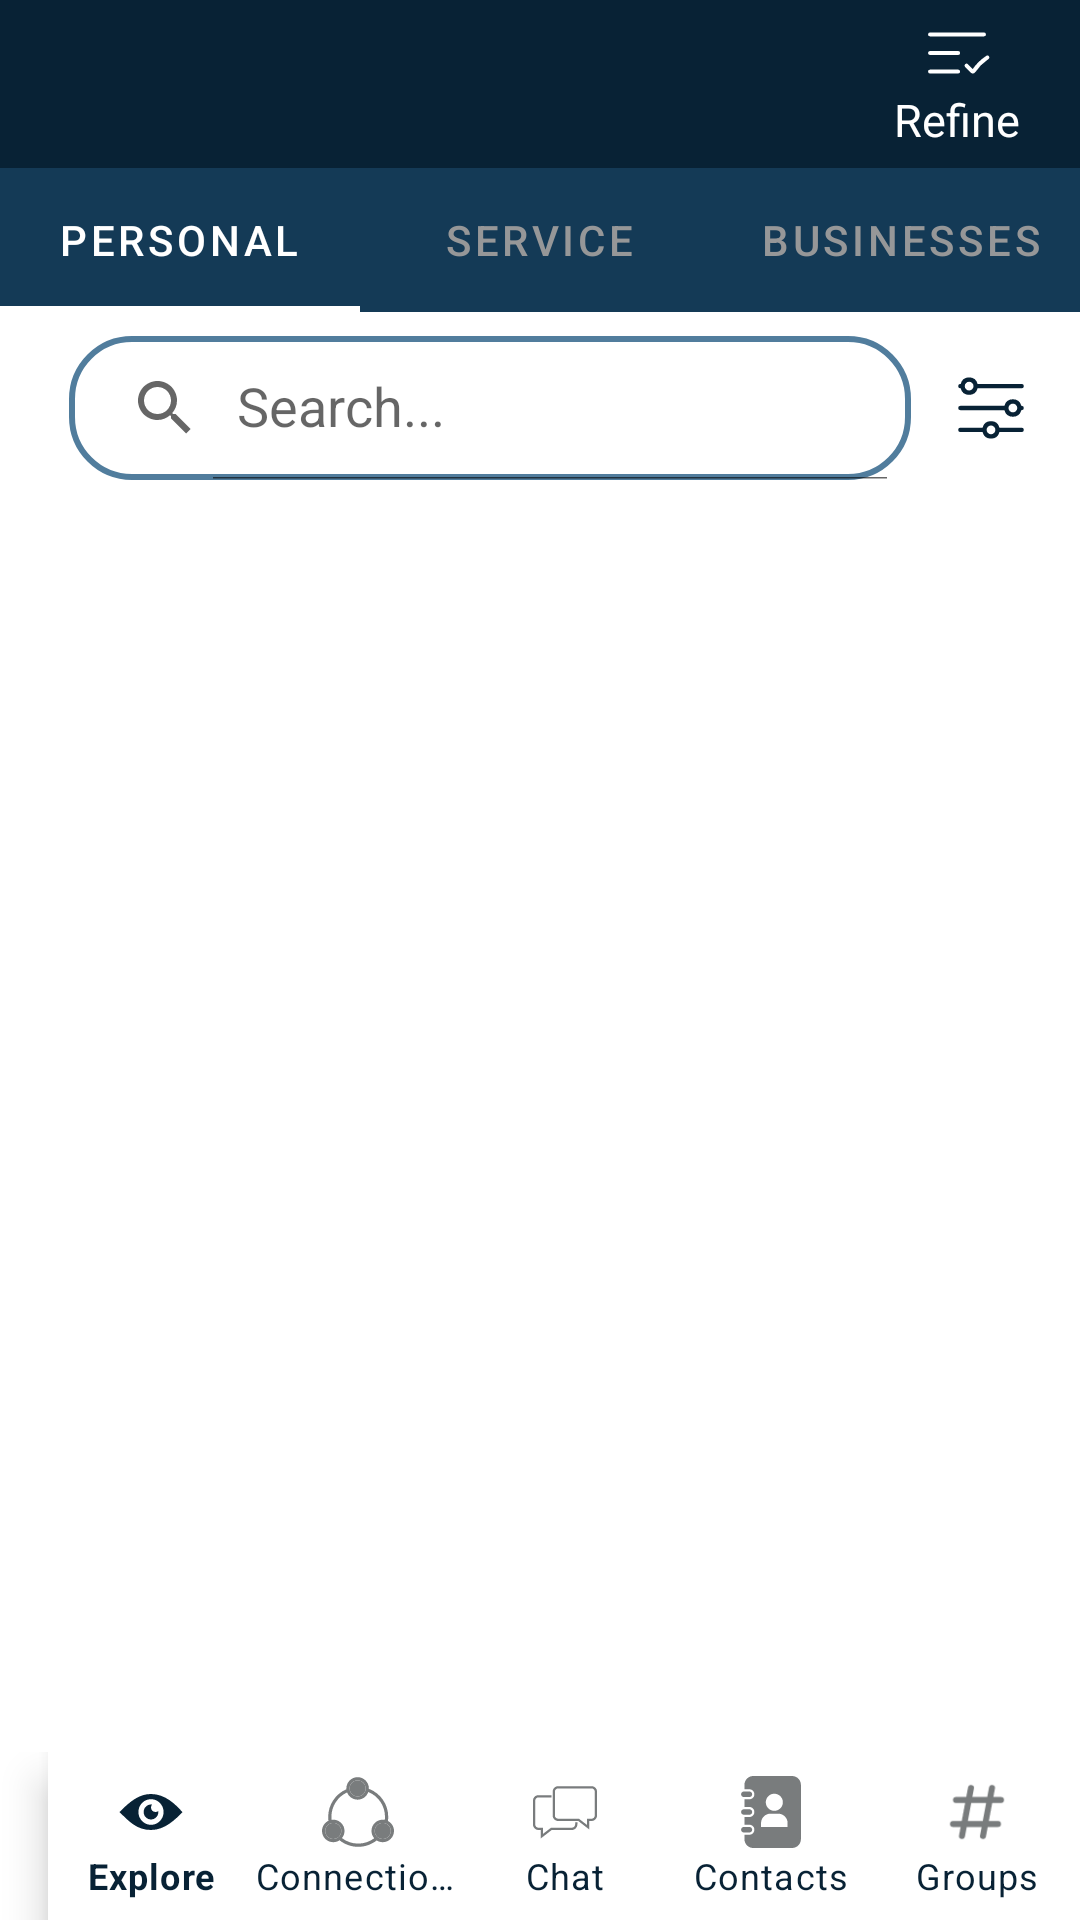

Point at icon controls on the screen. Image size 1080x1920, points as point (x, y).
filter: point (991, 408)
list: point (959, 53)
